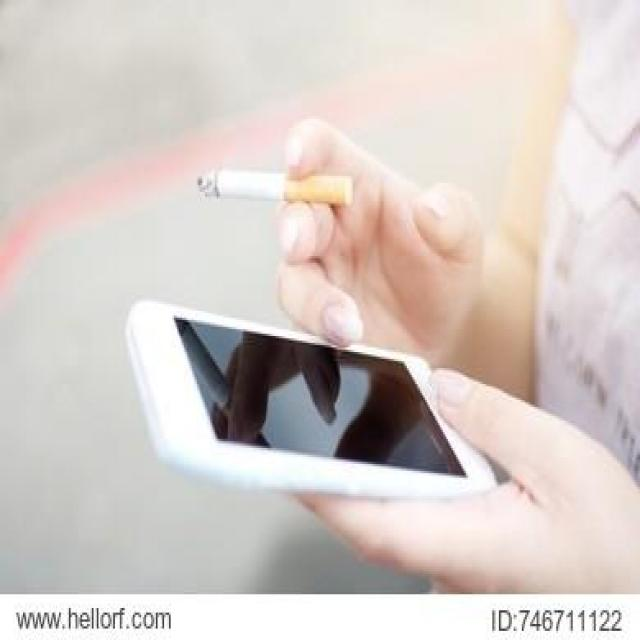Сигарета: (195, 167, 353, 210)
